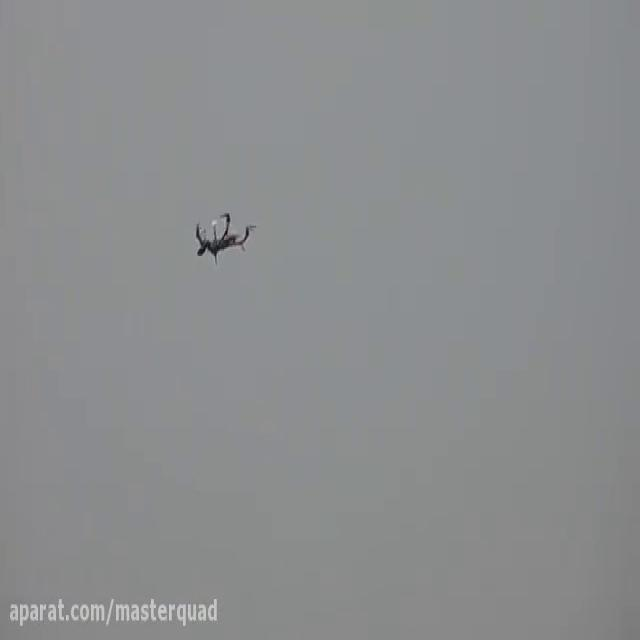drone: (188, 202, 261, 270)
